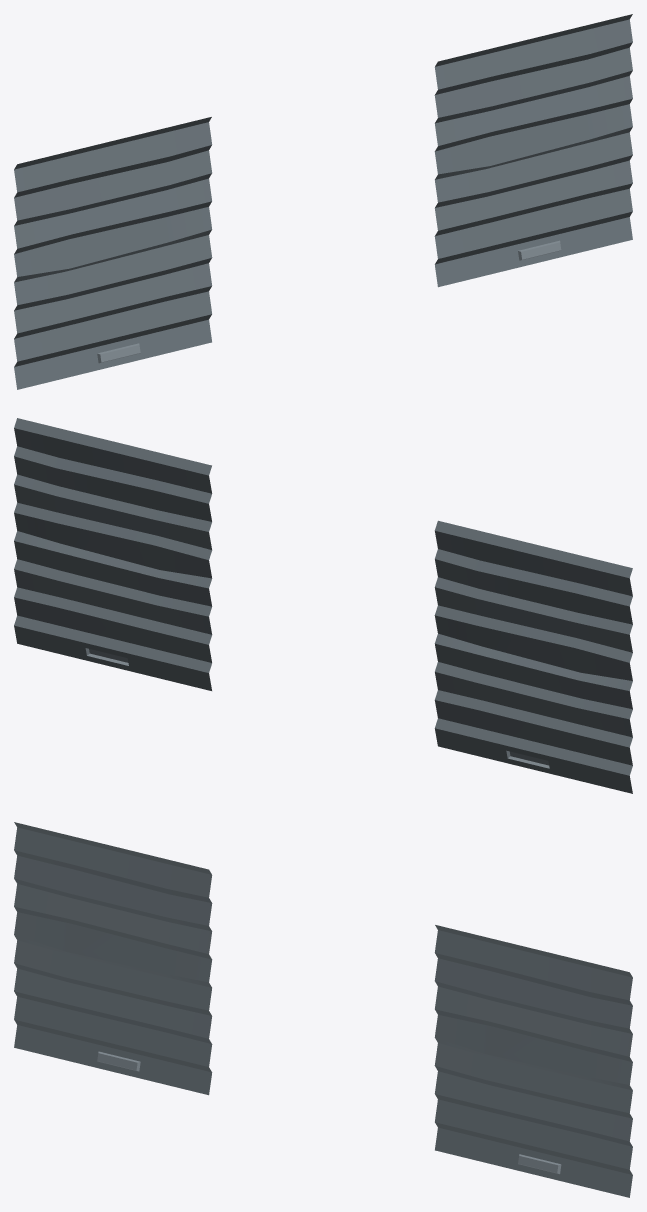
File: Wall_Window_Panels_01.glb
The picture shows the model from 3 angles, top to bottom: view 1: azimuth 30°, elevation 25°; view 2: azimuth 150°, elevation 25°; view 3: azimuth 330°, elevation 25°; orthographic projection.
Visible parts, largest first — view 1: SM_Env_Wall_Window_Panels_01; view 2: SM_Env_Wall_Window_Panels_01; view 3: SM_Env_Wall_Window_Panels_01.
Boxes of the visible parts, bbox=[...] form: SM_Env_Wall_Window_Panels_01: bbox=[14, 14, 632, 389]; SM_Env_Wall_Window_Panels_01: bbox=[14, 418, 632, 793]; SM_Env_Wall_Window_Panels_01: bbox=[14, 822, 632, 1197].
Size of the model in its own units: 3.66 by 1.28 by 0.0379.
1 material, 1 textured.
